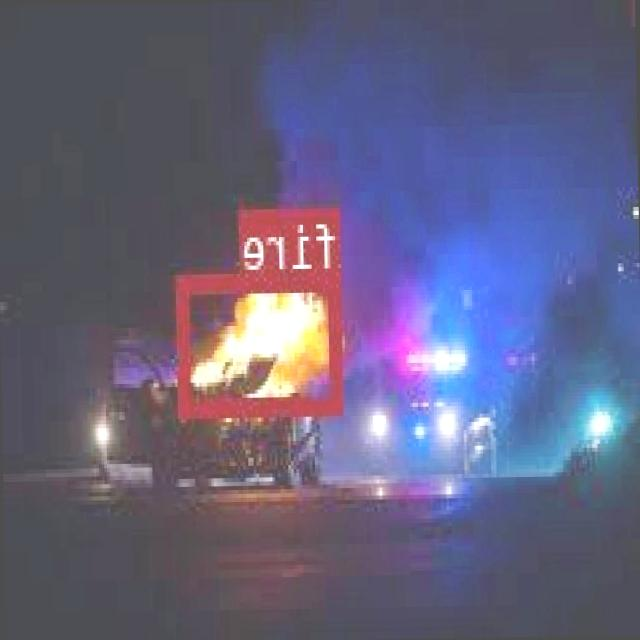fire: (179, 270, 344, 414)
